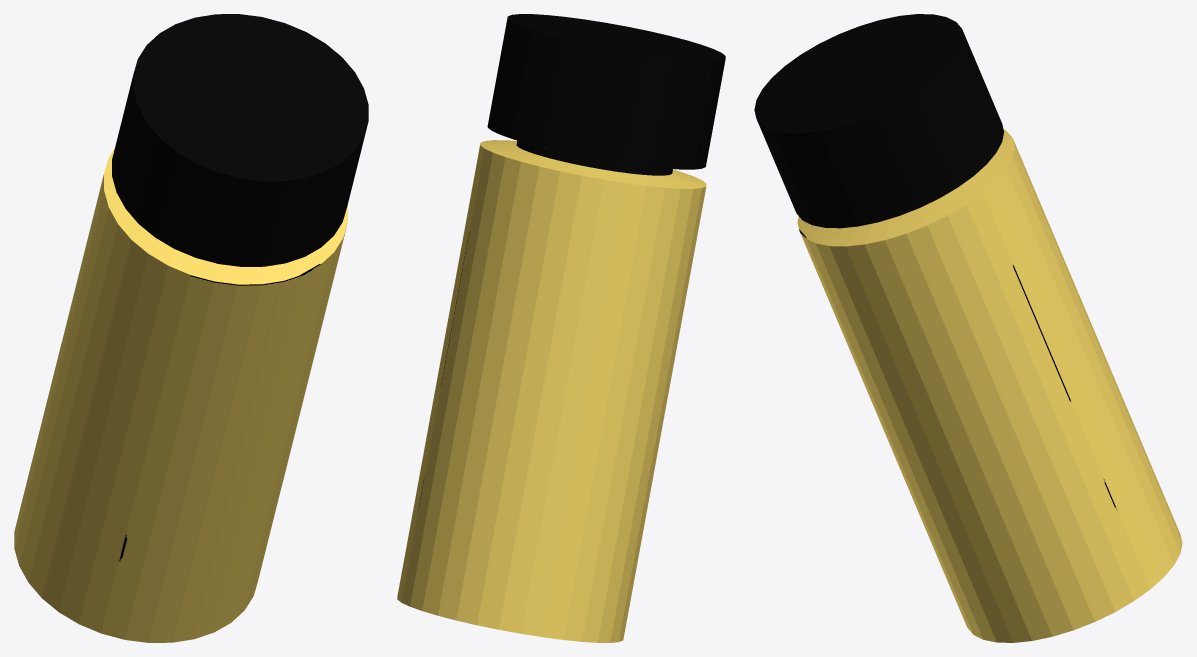
Rendered from bullet.fbx.
3 renders of one model, left to right at view 1: azimuth 30°, elevation 25°; view 2: azimuth 150°, elevation 25°; view 3: azimuth 270°, elevation 25°, orthographic. The views are drawn at different scales.
Parts seen in each view (by area): view 1: Cylinder.001; view 2: Cylinder.001; view 3: Cylinder.001.
Part boxes in pixels (x1,y1,x2,y2): Cylinder.001: (14,14,368,642); Cylinder.001: (397,14,725,642); Cylinder.001: (754,14,1182,642).
Bounding box in the file's own units: 0.4899 × 1.35 × 0.9009.
